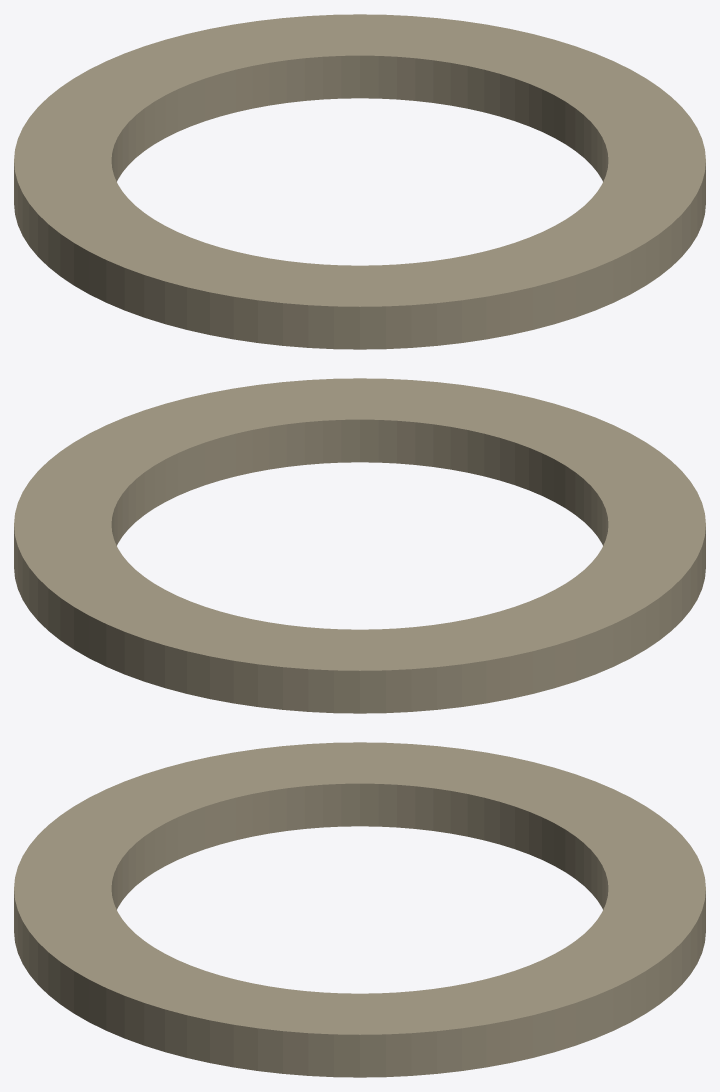
File: oil-filler-cap-seal.glb
3 views of the same model, one above another, from view 1: azimuth 30°, elevation 25°; view 2: azimuth 150°, elevation 25°; view 3: azimuth 270°, elevation 25° (orthographic).
Parts seen in each view (by area): view 1: world; view 2: world; view 3: world.
Part boxes in pixels (<box>): world: <box>14,14,705,349</box>; world: <box>14,378,705,713</box>; world: <box>14,742,705,1077</box>.
Size of the model in its own units: 0.044 by 0.003 by 0.044.
